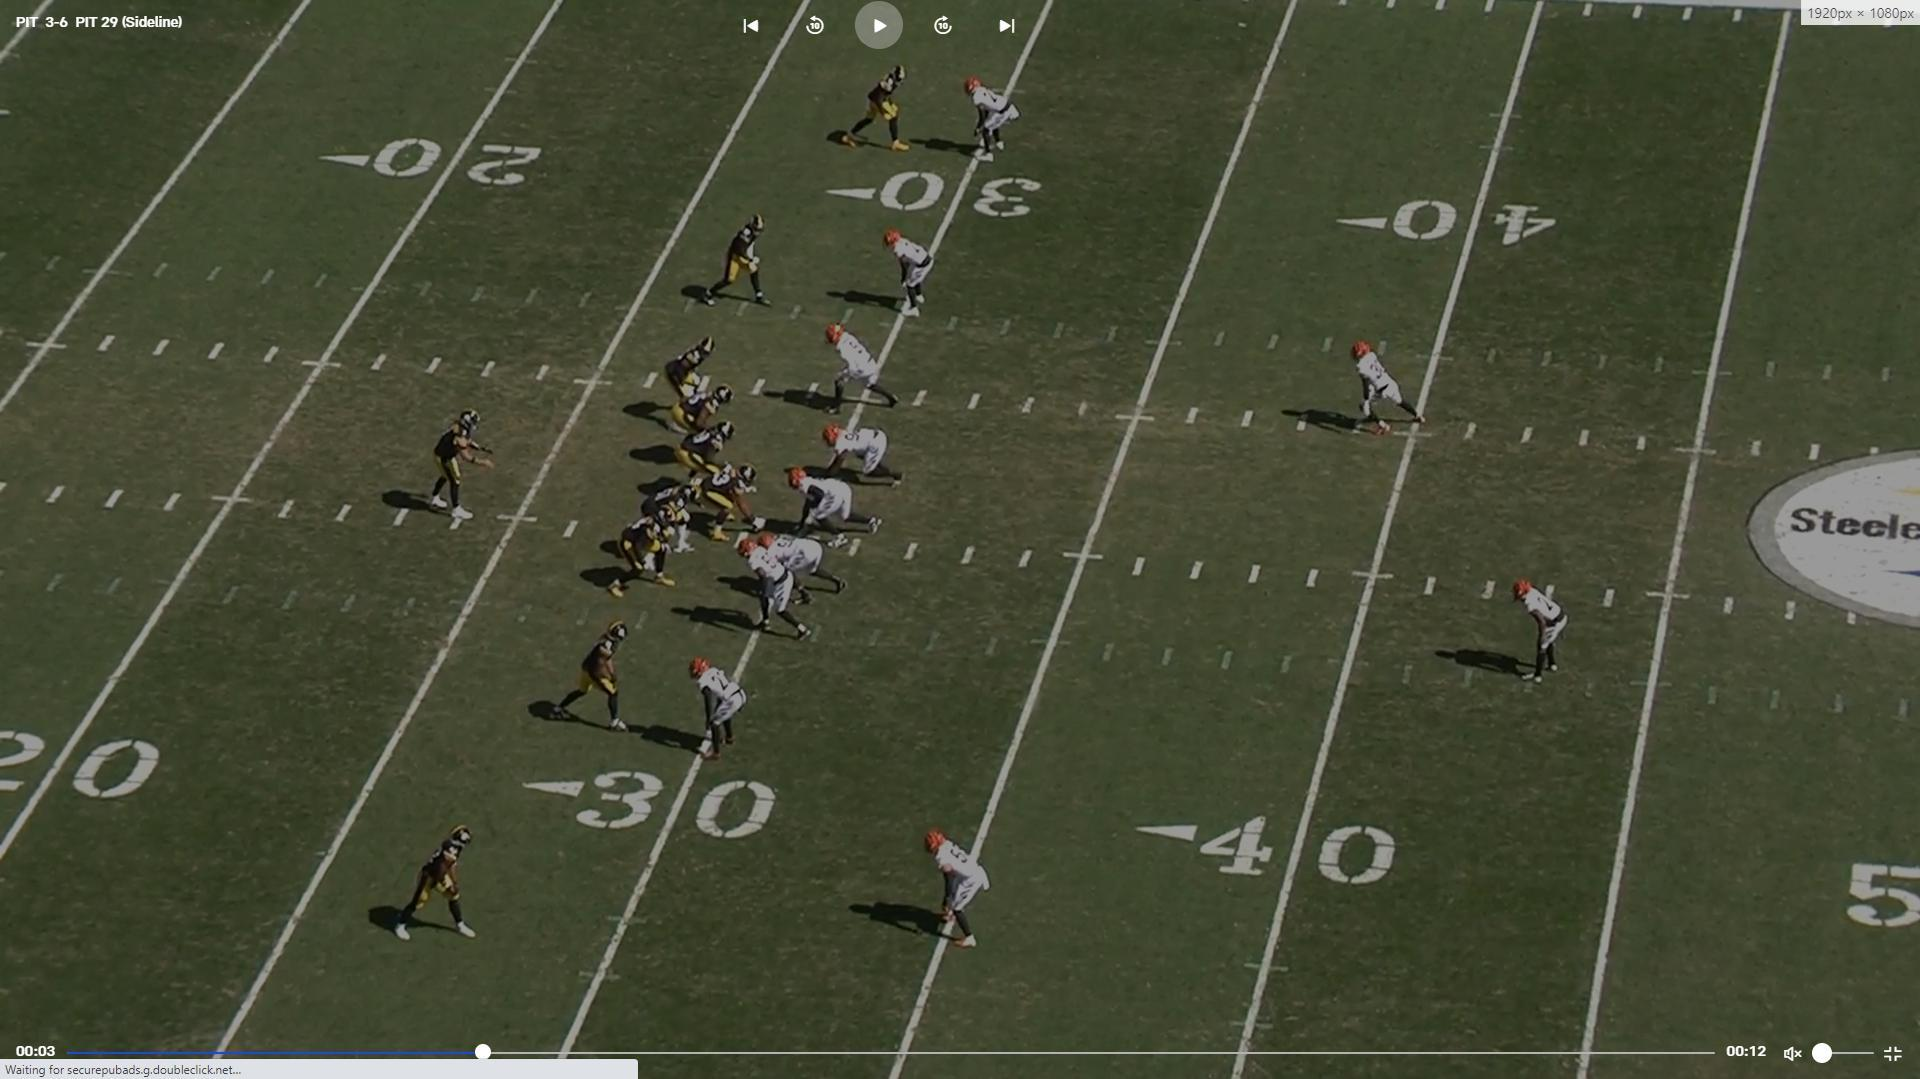player: (390, 820, 486, 950), (551, 616, 636, 732), (924, 827, 993, 959), (789, 465, 882, 552), (1348, 338, 1429, 437), (424, 407, 487, 530), (738, 538, 812, 642), (746, 533, 850, 607), (823, 321, 903, 417), (701, 209, 774, 314), (1513, 575, 1577, 688), (834, 62, 909, 158), (609, 507, 679, 601), (690, 656, 749, 766), (819, 424, 906, 492), (698, 460, 766, 542), (635, 472, 702, 555), (884, 223, 938, 321), (658, 336, 715, 428), (963, 74, 1019, 166), (684, 420, 742, 492), (682, 380, 738, 443)
